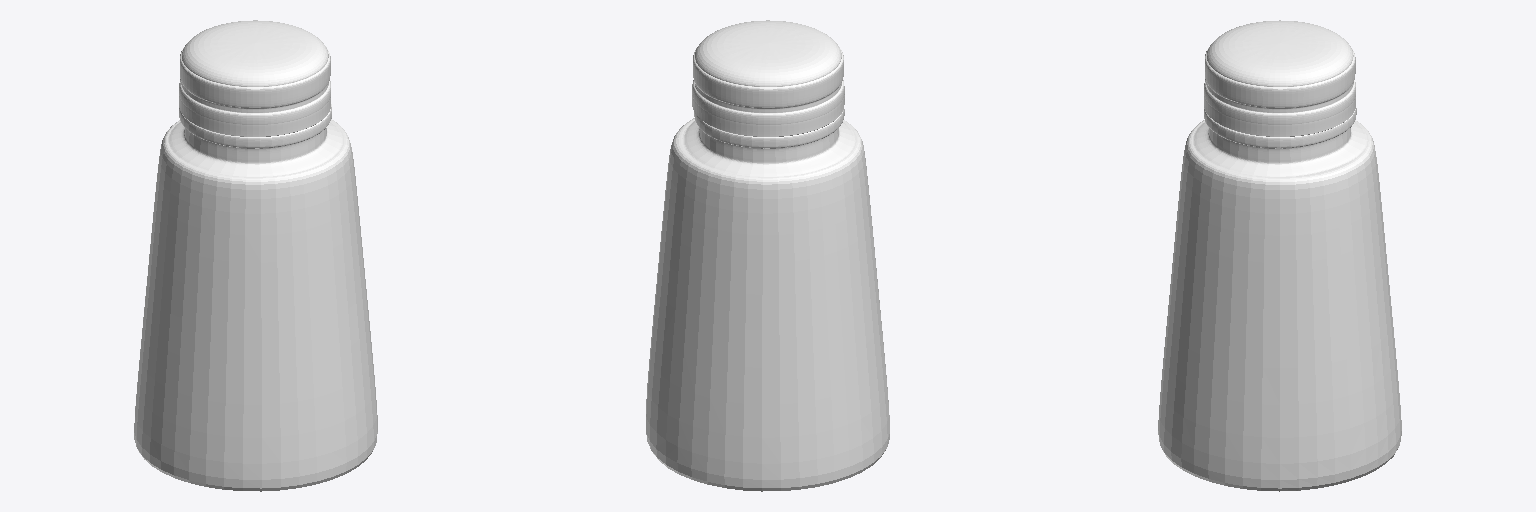
URDF robot description (shaker_0):
<?xml version="1.0"?>
<robot name="shaker_0">
  <material name="blinn4.001">
    <texture filename="visual/image0.png" />
    <color rgba="1 1 1 1" />
  </material>
  <material name="blinn3">
    <texture filename="visual/image3.png" />
    <color rgba="1 1 1 1" />
  </material>

  <link name="base_link">
    <inertial>
      <origin xyz="0 0 0" rpy="0 0 0" />
      <mass value="0.5" />
      <inertia ixx="0.001" ixy="0" ixz="0" iyy="0.001" iyz="0" izz="0.001" />
    </inertial>
    <visual>
      <origin xyz="0 0 0" rpy="0 0 0" />
      <geometry>
        <mesh filename="visual/model_normalized_0.obj" scale="0.095 0.095 0.095" />
      </geometry>
      <material name="blinn4.001" />
    </visual>
    <visual>
      <origin xyz="0 0 0" rpy="0 0 0" />
      <geometry>
        <mesh filename="visual/model_normalized_1.obj" scale="0.095 0.095 0.095" />
      </geometry>
      <material name="blinn3" />
    </visual>

    <collision>
      <origin xyz="0 0 0" rpy="0 0 0" />
      <geometry>
        <mesh filename="collision/model_normalized_collision_22.obj" scale="0.095 0.095 0.095" />
      </geometry>
    </collision>
    <collision>
      <origin xyz="0 0 0" rpy="0 0 0" />
      <geometry>
        <mesh filename="collision/model_normalized_collision_23.obj" scale="0.095 0.095 0.095" />
      </geometry>
    </collision>
    <collision>
      <origin xyz="0 0 0" rpy="0 0 0" />
      <geometry>
        <mesh filename="collision/model_normalized_collision_21.obj" scale="0.095 0.095 0.095" />
      </geometry>
    </collision>
    <collision>
      <origin xyz="0 0 0" rpy="0 0 0" />
      <geometry>
        <mesh filename="collision/model_normalized_collision_20.obj" scale="0.095 0.095 0.095" />
      </geometry>
    </collision>
    <collision>
      <origin xyz="0 0 0" rpy="0 0 0" />
      <geometry>
        <mesh filename="collision/model_normalized_collision_24.obj" scale="0.095 0.095 0.095" />
      </geometry>
    </collision>
    <collision>
      <origin xyz="0 0 0" rpy="0 0 0" />
      <geometry>
        <mesh filename="collision/model_normalized_collision_30.obj" scale="0.095 0.095 0.095" />
      </geometry>
    </collision>
    <collision>
      <origin xyz="0 0 0" rpy="0 0 0" />
      <geometry>
        <mesh filename="collision/model_normalized_collision_18.obj" scale="0.095 0.095 0.095" />
      </geometry>
    </collision>
    <collision>
      <origin xyz="0 0 0" rpy="0 0 0" />
      <geometry>
        <mesh filename="collision/model_normalized_collision_19.obj" scale="0.095 0.095 0.095" />
      </geometry>
    </collision>
    <collision>
      <origin xyz="0 0 0" rpy="0 0 0" />
      <geometry>
        <mesh filename="collision/model_normalized_collision_31.obj" scale="0.095 0.095 0.095" />
      </geometry>
    </collision>
    <collision>
      <origin xyz="0 0 0" rpy="0 0 0" />
      <geometry>
        <mesh filename="collision/model_normalized_collision_25.obj" scale="0.095 0.095 0.095" />
      </geometry>
    </collision>
    <collision>
      <origin xyz="0 0 0" rpy="0 0 0" />
      <geometry>
        <mesh filename="collision/model_normalized_collision_27.obj" scale="0.095 0.095 0.095" />
      </geometry>
    </collision>
    <collision>
      <origin xyz="0 0 0" rpy="0 0 0" />
      <geometry>
        <mesh filename="collision/model_normalized_collision_26.obj" scale="0.095 0.095 0.095" />
      </geometry>
    </collision>
    <collision>
      <origin xyz="0 0 0" rpy="0 0 0" />
      <geometry>
        <mesh filename="collision/model_normalized_collision_9.obj" scale="0.095 0.095 0.095" />
      </geometry>
    </collision>
    <collision>
      <origin xyz="0 0 0" rpy="0 0 0" />
      <geometry>
        <mesh filename="collision/model_normalized_collision_8.obj" scale="0.095 0.095 0.095" />
      </geometry>
    </collision>
    <collision>
      <origin xyz="0 0 0" rpy="0 0 0" />
      <geometry>
        <mesh filename="collision/model_normalized_collision_6.obj" scale="0.095 0.095 0.095" />
      </geometry>
    </collision>
    <collision>
      <origin xyz="0 0 0" rpy="0 0 0" />
      <geometry>
        <mesh filename="collision/model_normalized_collision_7.obj" scale="0.095 0.095 0.095" />
      </geometry>
    </collision>
    <collision>
      <origin xyz="0 0 0" rpy="0 0 0" />
      <geometry>
        <mesh filename="collision/model_normalized_collision_5.obj" scale="0.095 0.095 0.095" />
      </geometry>
    </collision>
    <collision>
      <origin xyz="0 0 0" rpy="0 0 0" />
      <geometry>
        <mesh filename="collision/model_normalized_collision_4.obj" scale="0.095 0.095 0.095" />
      </geometry>
    </collision>
    <collision>
      <origin xyz="0 0 0" rpy="0 0 0" />
      <geometry>
        <mesh filename="collision/model_normalized_collision_0.obj" scale="0.095 0.095 0.095" />
      </geometry>
    </collision>
    <collision>
      <origin xyz="0 0 0" rpy="0 0 0" />
      <geometry>
        <mesh filename="collision/model_normalized_collision_1.obj" scale="0.095 0.095 0.095" />
      </geometry>
    </collision>
    <collision>
      <origin xyz="0 0 0" rpy="0 0 0" />
      <geometry>
        <mesh filename="collision/model_normalized_collision_3.obj" scale="0.095 0.095 0.095" />
      </geometry>
    </collision>
    <collision>
      <origin xyz="0 0 0" rpy="0 0 0" />
      <geometry>
        <mesh filename="collision/model_normalized_collision_2.obj" scale="0.095 0.095 0.095" />
      </geometry>
    </collision>
    <collision>
      <origin xyz="0 0 0" rpy="0 0 0" />
      <geometry>
        <mesh filename="collision/model_normalized_collision_17.obj" scale="0.095 0.095 0.095" />
      </geometry>
    </collision>
    <collision>
      <origin xyz="0 0 0" rpy="0 0 0" />
      <geometry>
        <mesh filename="collision/model_normalized_collision_16.obj" scale="0.095 0.095 0.095" />
      </geometry>
    </collision>
    <collision>
      <origin xyz="0 0 0" rpy="0 0 0" />
      <geometry>
        <mesh filename="collision/model_normalized_collision_28.obj" scale="0.095 0.095 0.095" />
      </geometry>
    </collision>
    <collision>
      <origin xyz="0 0 0" rpy="0 0 0" />
      <geometry>
        <mesh filename="collision/model_normalized_collision_14.obj" scale="0.095 0.095 0.095" />
      </geometry>
    </collision>
    <collision>
      <origin xyz="0 0 0" rpy="0 0 0" />
      <geometry>
        <mesh filename="collision/model_normalized_collision_15.obj" scale="0.095 0.095 0.095" />
      </geometry>
    </collision>
    <collision>
      <origin xyz="0 0 0" rpy="0 0 0" />
      <geometry>
        <mesh filename="collision/model_normalized_collision_29.obj" scale="0.095 0.095 0.095" />
      </geometry>
    </collision>
    <collision>
      <origin xyz="0 0 0" rpy="0 0 0" />
      <geometry>
        <mesh filename="collision/model_normalized_collision_11.obj" scale="0.095 0.095 0.095" />
      </geometry>
    </collision>
    <collision>
      <origin xyz="0 0 0" rpy="0 0 0" />
      <geometry>
        <mesh filename="collision/model_normalized_collision_10.obj" scale="0.095 0.095 0.095" />
      </geometry>
    </collision>
    <collision>
      <origin xyz="0 0 0" rpy="0 0 0" />
      <geometry>
        <mesh filename="collision/model_normalized_collision_12.obj" scale="0.095 0.095 0.095" />
      </geometry>
    </collision>
    <collision>
      <origin xyz="0 0 0" rpy="0 0 0" />
      <geometry>
        <mesh filename="collision/model_normalized_collision_13.obj" scale="0.095 0.095 0.095" />
      </geometry>
    </collision>
  </link>
</robot>

--- Facts derived from the render (not from the file) ---
The picture shows the robot from 3 angles, left to right: view 1: azimuth 30°, elevation 25°; view 2: azimuth 150°, elevation 25°; view 3: azimuth 270°, elevation 25°; orthographic projection.
Robot: shaker_0 — 1 links, 0 joints (none); root link base_link; default pose: all joints at 0.
Visible links, largest first — view 1: base_link; view 2: base_link; view 3: base_link.
Link boxes in pixels (bbox=[...]): base_link: bbox=[134, 20, 377, 491]; base_link: bbox=[646, 20, 889, 491]; base_link: bbox=[1158, 20, 1401, 491].
Bounding box of the posed robot: 0.0526 × 0.0524 × 0.095 m (x, y, z).
2 mesh visuals loaded from 2 distinct referenced files (2 OBJ).